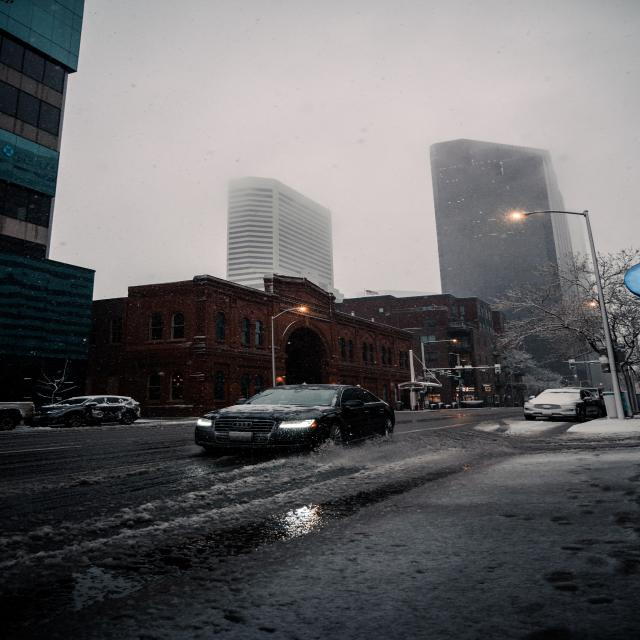Street Light: (510, 208, 626, 418), (589, 301, 631, 394), (270, 306, 310, 400), (421, 338, 459, 406)
